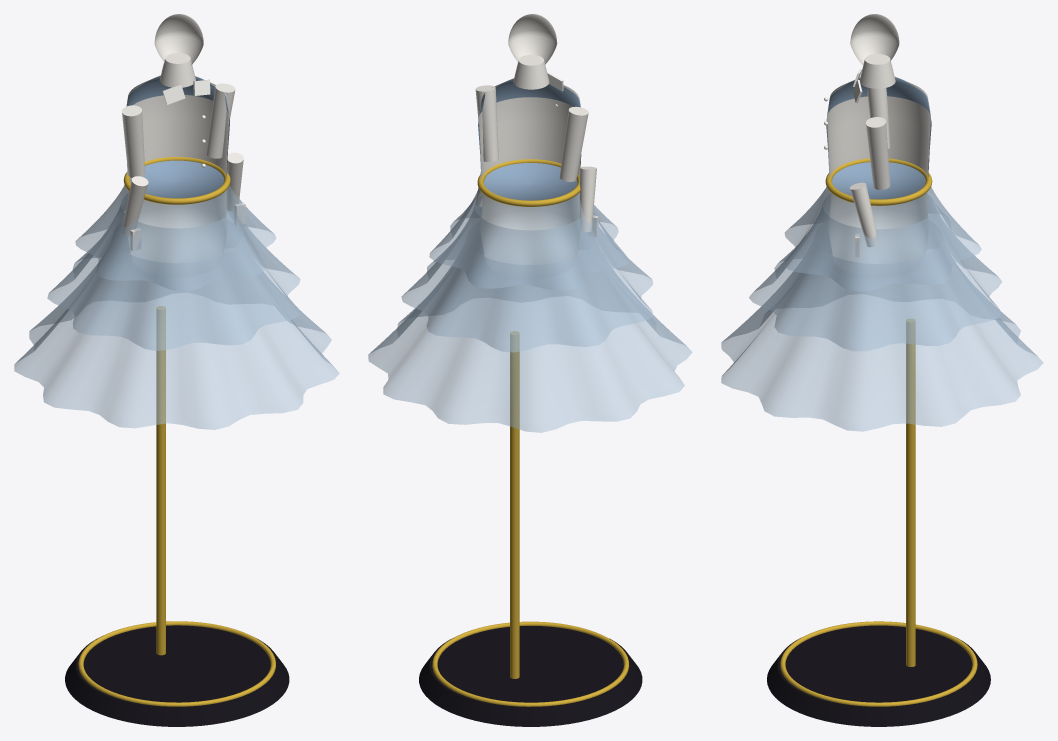
Rendered from kids-heirloom.glb.
3 renders of one model, left to right at view 1: azimuth 30°, elevation 25°; view 2: azimuth 150°, elevation 25°; view 3: azimuth 270°, elevation 25°, orthographic.
Parts seen in each view (by area): view 1: Tier3, Tier2, DisplayPlinth, Tier1, Mannequin_Torso, kids_RetailMannequin_DisplayForm, KidsBodice, RightArm, LeftArm, KidsHeirloomEnsemble, Mannequin_Head, Mannequin_Neck; view 2: Tier3, Tier2, DisplayPlinth, Tier1, Mannequin_Torso, kids_RetailMannequin_DisplayForm, KidsBodice, RightArm, Mannequin_Head, KidsHeirloomEnsemble, LeftArm, Mannequin_Neck; view 3: Tier3, Tier2, DisplayPlinth, Tier1, Mannequin_Torso, kids_RetailMannequin_DisplayForm, KidsBodice, LeftArm, Mannequin_Head, KidsHeirloomEnsemble, Mannequin_Neck, RightArm.
Part boxes in pixels (<box>): Tier3: <box>14,237,339,429</box>; Tier2: <box>47,193,300,350</box>; DisplayPlinth: <box>65,625,289,726</box>; Tier1: <box>75,185,276,291</box>; Mannequin_Torso: <box>126,75,229,263</box>; kids_RetailMannequin_DisplayForm: <box>78,306,275,706</box>; KidsBodice: <box>127,76,229,198</box>; RightArm: <box>122,105,148,250</box>; LeftArm: <box>206,83,245,225</box>; KidsHeirloomEnsemble: <box>123,79,230,204</box>; Mannequin_Head: <box>154,14,203,65</box>; Mannequin_Neck: <box>159,53,195,87</box>; Tier3: <box>368,239,692,432</box>; Tier2: <box>401,196,653,352</box>; DisplayPlinth: <box>419,626,642,726</box>; Tier1: <box>429,188,629,290</box>; Mannequin_Torso: <box>478,78,580,264</box>; kids_RetailMannequin_DisplayForm: <box>432,331,629,706</box>; KidsBodice: <box>478,79,581,200</box>; RightArm: <box>559,106,598,237</box>; Mannequin_Head: <box>508,14,557,64</box>; KidsHeirloomEnsemble: <box>477,72,580,206</box>; LeftArm: <box>475,85,498,206</box>; Mannequin_Neck: <box>513,55,549,89</box>; Tier3: <box>721,238,1043,431</box>; Tier2: <box>749,194,1001,351</box>; DisplayPlinth: <box>767,625,990,726</box>; Tier1: <box>784,187,981,291</box>; Mannequin_Torso: <box>827,76,930,263</box>; kids_RetailMannequin_DisplayForm: <box>780,319,977,706</box>; KidsBodice: <box>826,77,931,199</box>; LeftArm: <box>849,117,890,257</box>; Mannequin_Head: <box>850,14,899,65</box>; KidsHeirloomEnsemble: <box>824,69,932,205</box>; Mannequin_Neck: <box>859,54,895,88</box>; RightArm: <box>867,87,890,148</box>.
Bounding box in the file's own units: 1.22 × 2.75 × 1.21.
